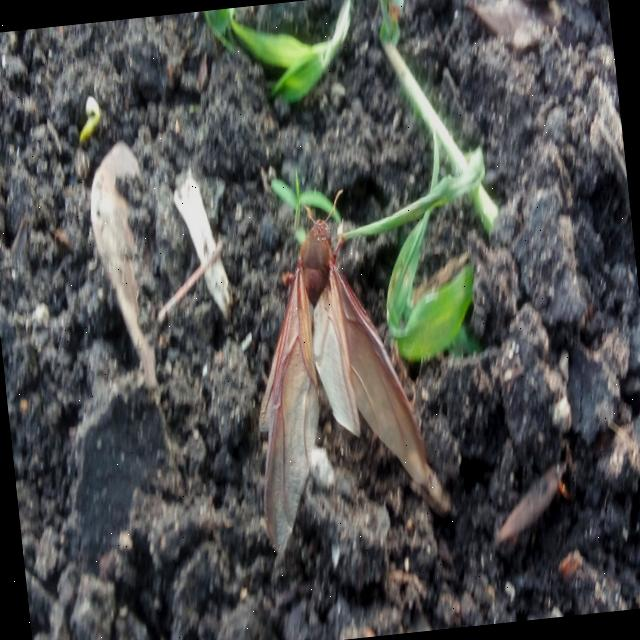Alive-Female-Alate: (229, 179, 456, 564)
